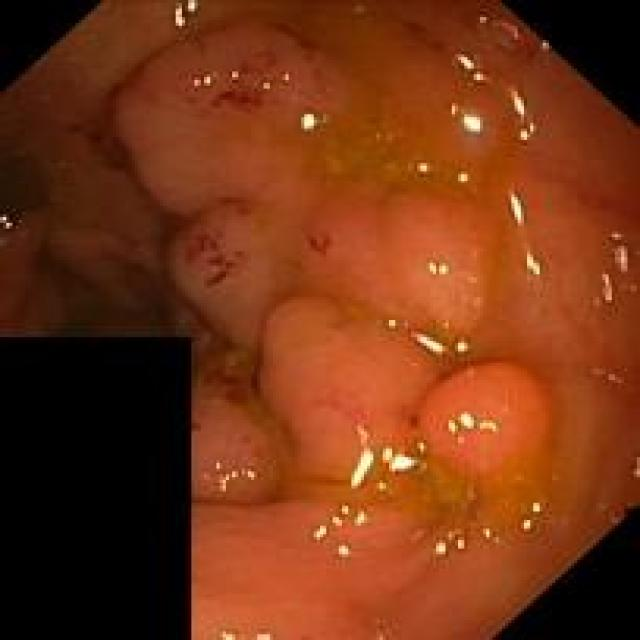Polyps: (117, 25, 354, 216), (259, 298, 443, 484), (302, 192, 500, 339), (170, 202, 290, 347), (420, 361, 556, 474), (192, 350, 283, 503)
